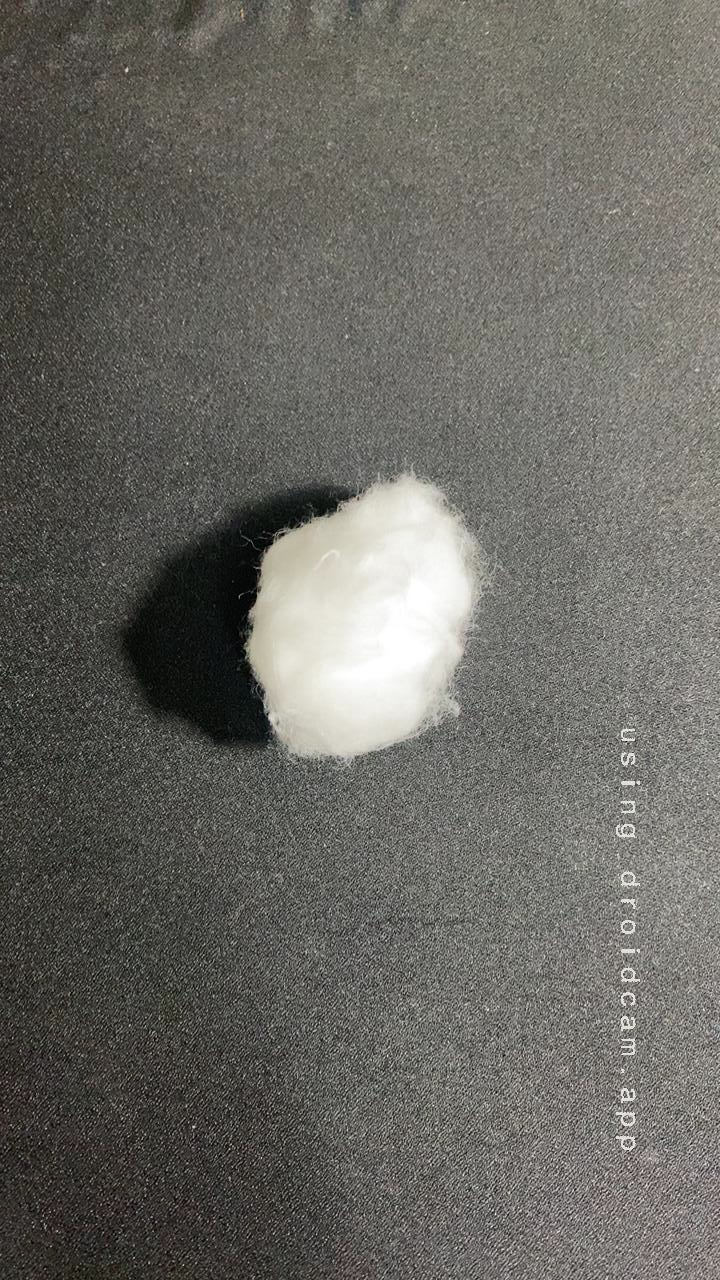cotton: (225, 450, 517, 778)
